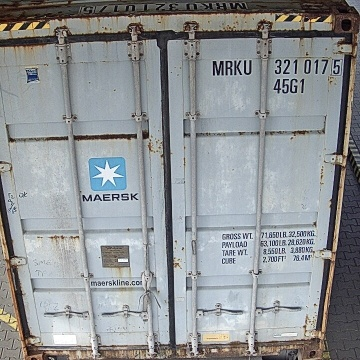serial_id: (213, 59, 342, 74)
